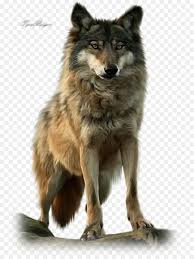Lobo: (43, 1, 153, 244)
